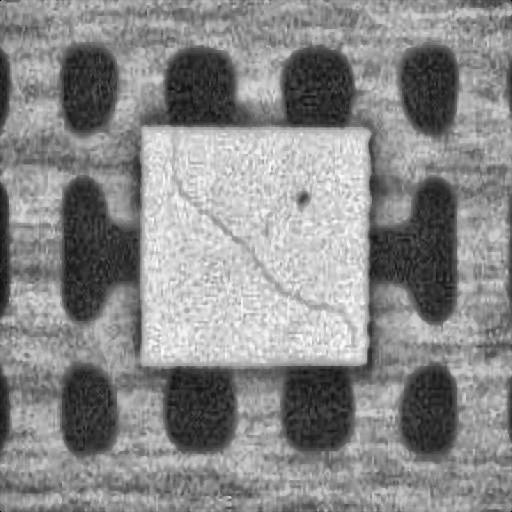DIE_CRACK: (168, 130, 360, 355)
